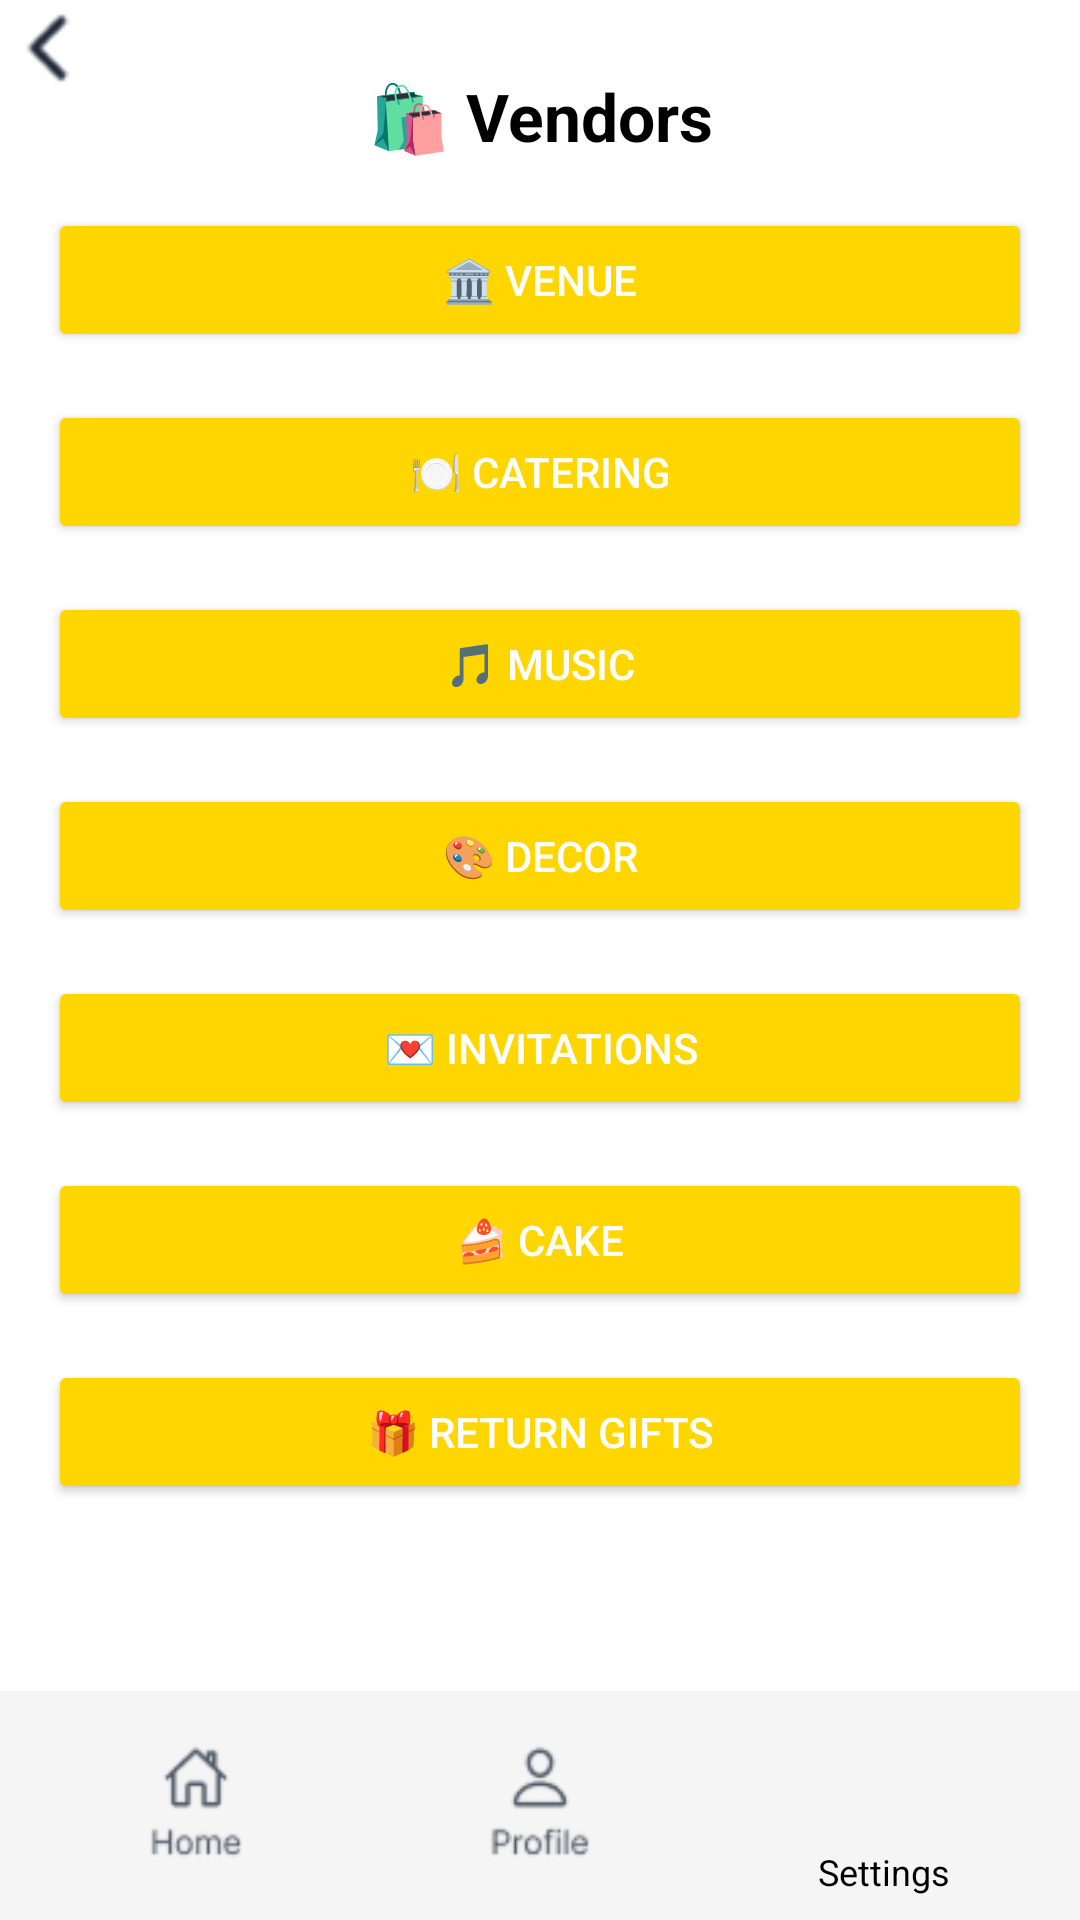

Where icons sit on this 1080×1920 app screen, as box(x1, y1, x2, y2):
Back: box(27, 14, 69, 82)
